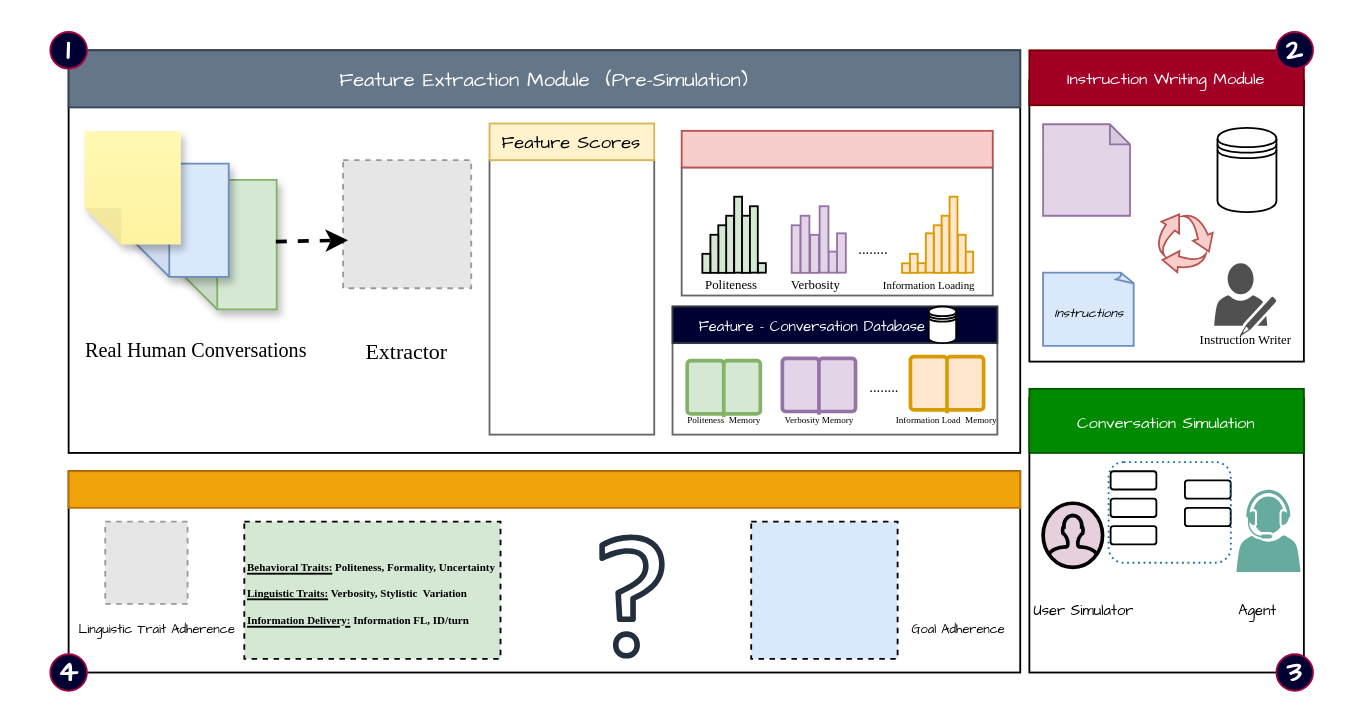
The diagram is 1362 pixels wide and 723 high, and some of its shapes have lost their labels. Grey dashed boxes stand in for pictures. The shapes that lost their labels are listed below. From the top down, each one's centre as x and y in pixels, then its label:
At point (836, 148): "Feature Distribution".
At point (1085, 169): "Sample Persona".
At point (1246, 169): "F-C Database".
At point (571, 296): "Politeness Formality Verbosity Information Loading Uncertainty Pushback Rate".
At point (543, 488): "Evaluation of Simulated Conversation".
At point (823, 589): "Goal Adherence Contradiction Redundancy Diversity Consistency".
